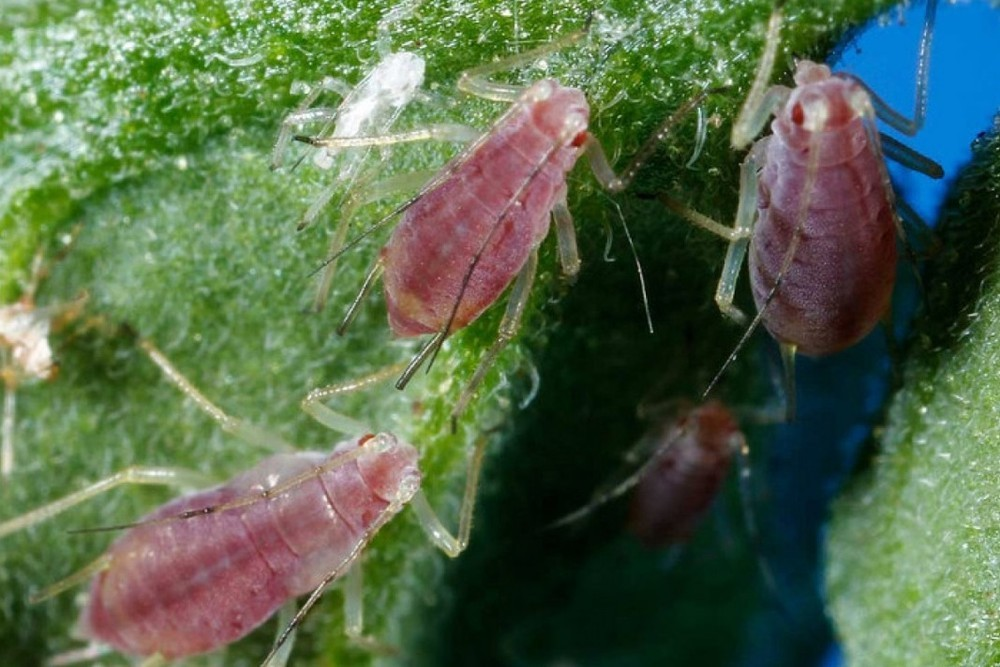Pulgon: (39, 381, 500, 665), (295, 46, 679, 360), (690, 22, 978, 395), (574, 381, 783, 565)
